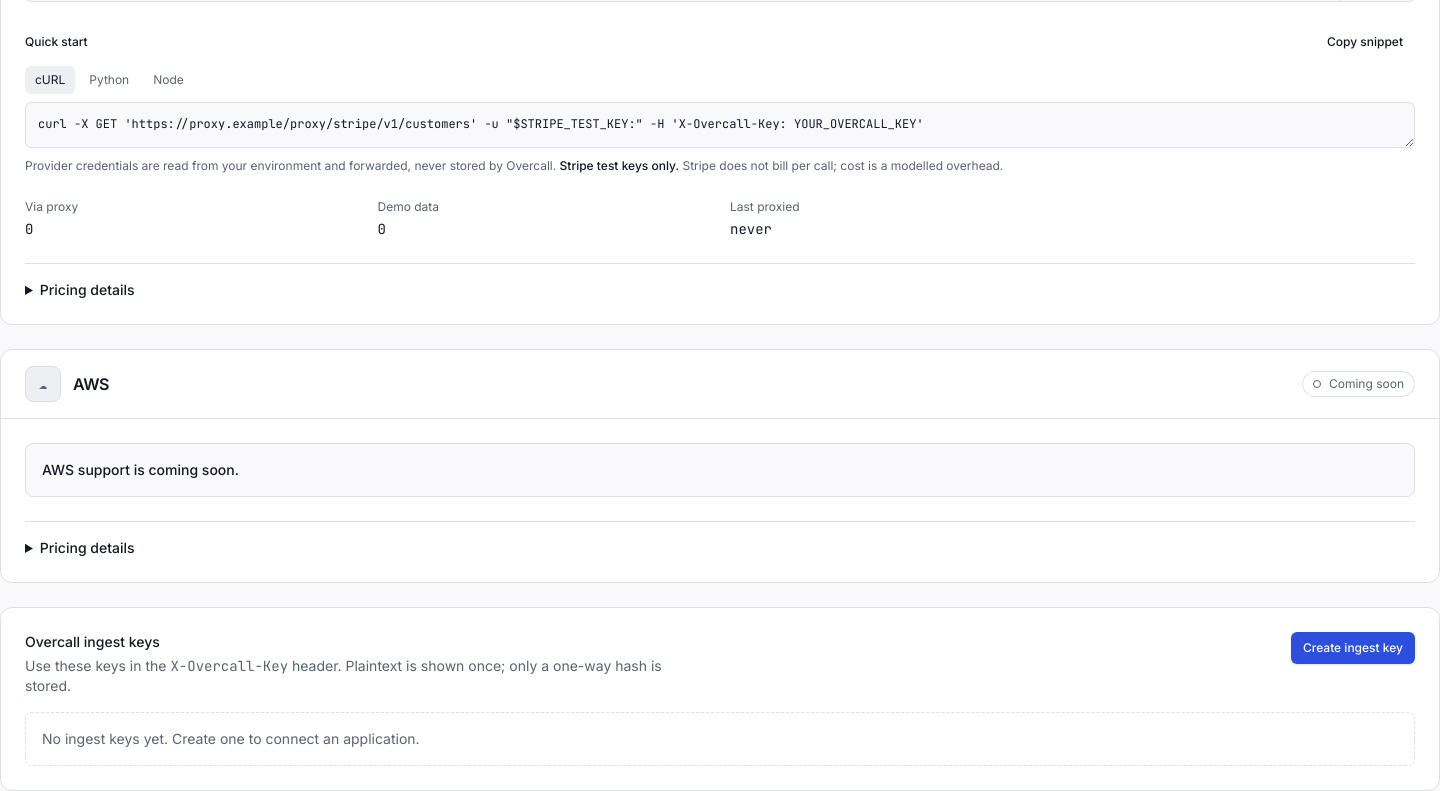
Scenario: providers page › shows the created key once and removes it after save confirmation
(page scrolled)
Click the button "Create ingest key". click: (1353, 648)
box: [1291,632,1415,664]
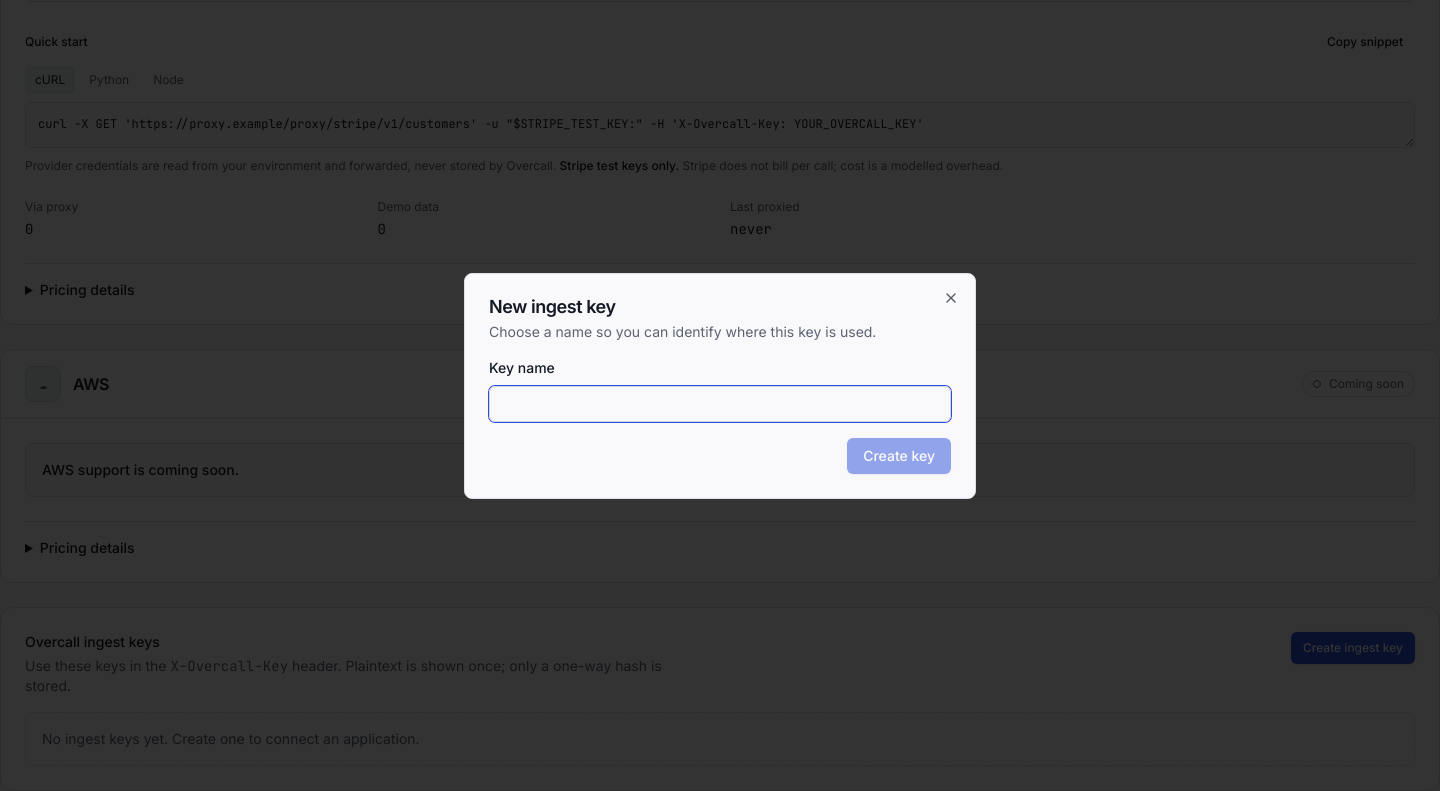
Type "local dev" into the field labelled "Key name". click: (720, 404)
box: [489,386,951,422]
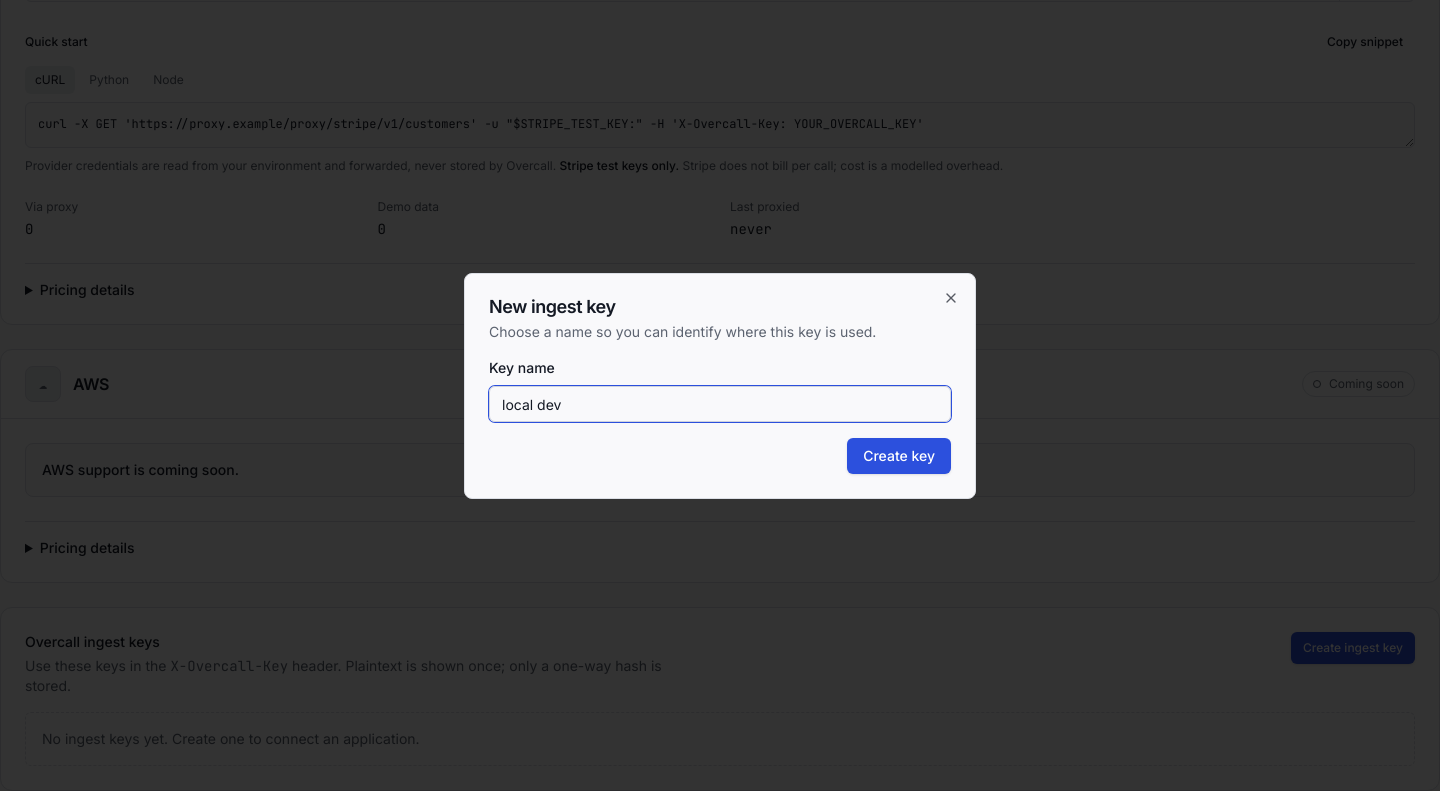
Click the button "Create key". click: (899, 456)
box: [847,438,951,474]
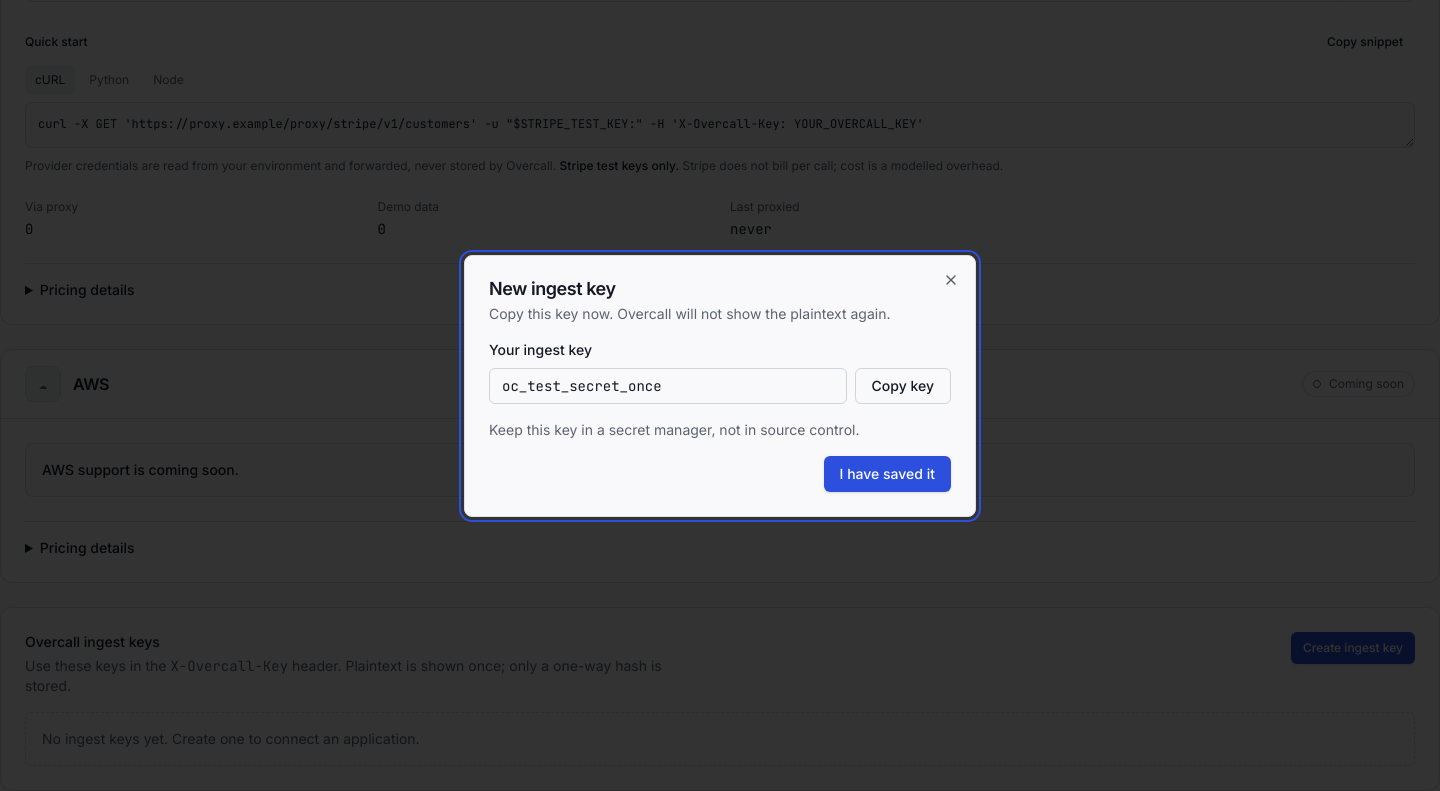
expect the field labelled "Your ingest key" holds "oc_test_secret_once": met, box [489,368,847,404]
Click the button "I have saved it". click: (887, 474)
box: [824,456,951,492]
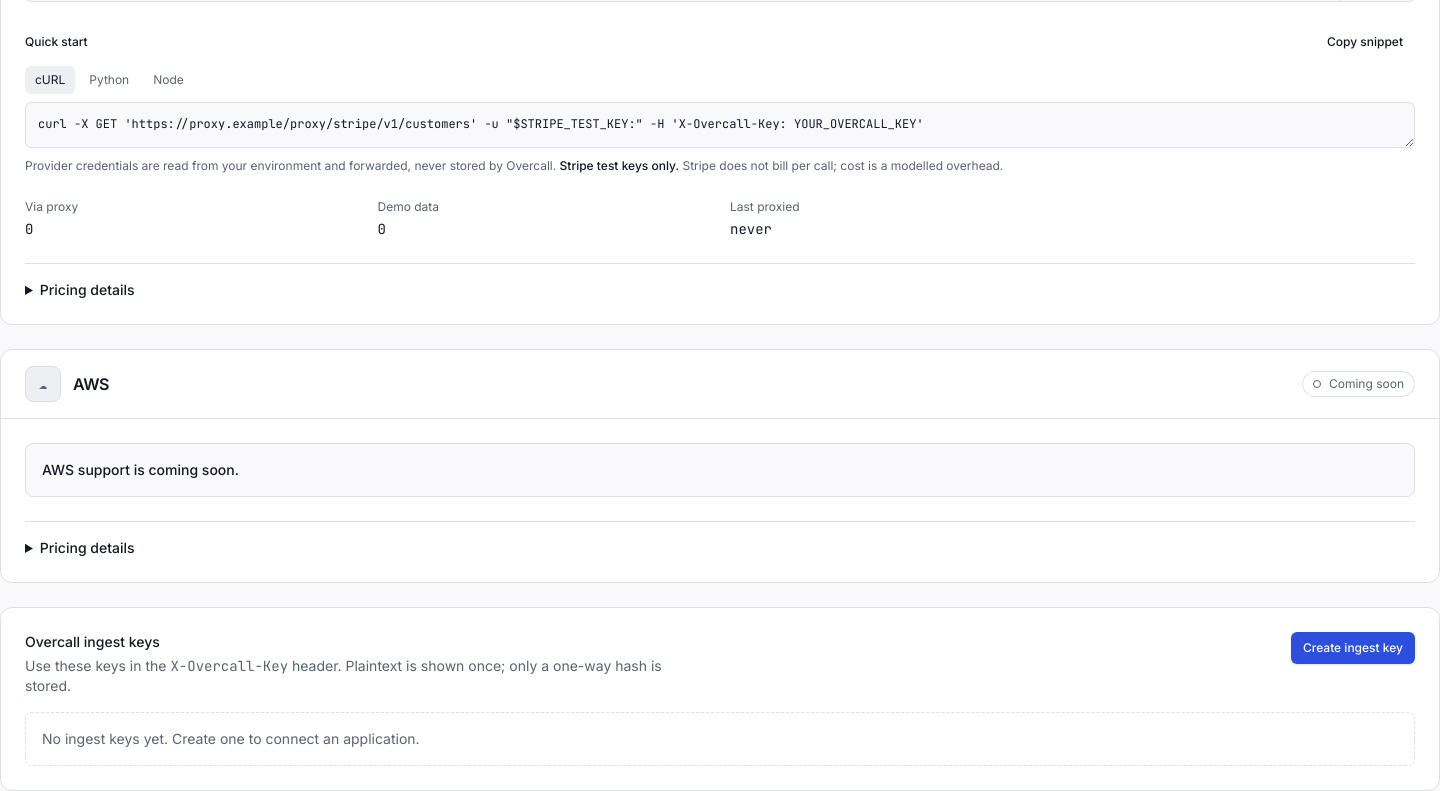
expect the label "Your ingest key" is gone: met
